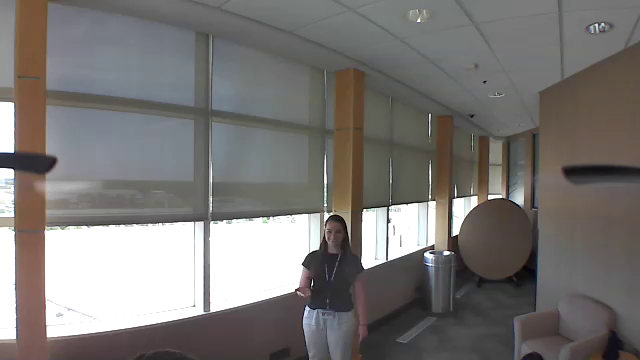land: (291, 284, 317, 302)
